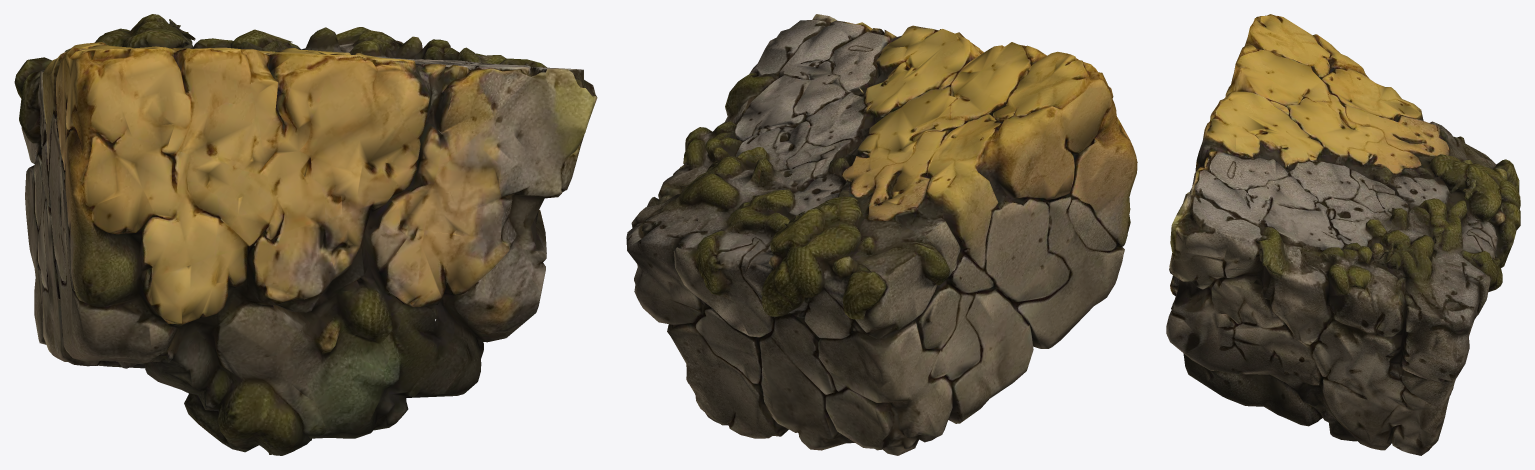
File: rock_lichen.glb
3 renders of one model, left to right at view 1: azimuth 30°, elevation 25°; view 2: azimuth 150°, elevation 25°; view 3: azimuth 270°, elevation 25°, orthographic. The views are drawn at different scales.
Parts seen in each view (by area): view 1: tripo_node_036c1d86; view 2: tripo_node_036c1d86; view 3: tripo_node_036c1d86.
Part boxes in pixels (x1,y1,x2,y2): tripo_node_036c1d86: (14,14,597,455); tripo_node_036c1d86: (626,14,1137,455); tripo_node_036c1d86: (1166,14,1520,455).
Size of the model in its own units: 0.9812 by 0.8634 by 0.862.
Materials: 1 (1 with a texture image).
